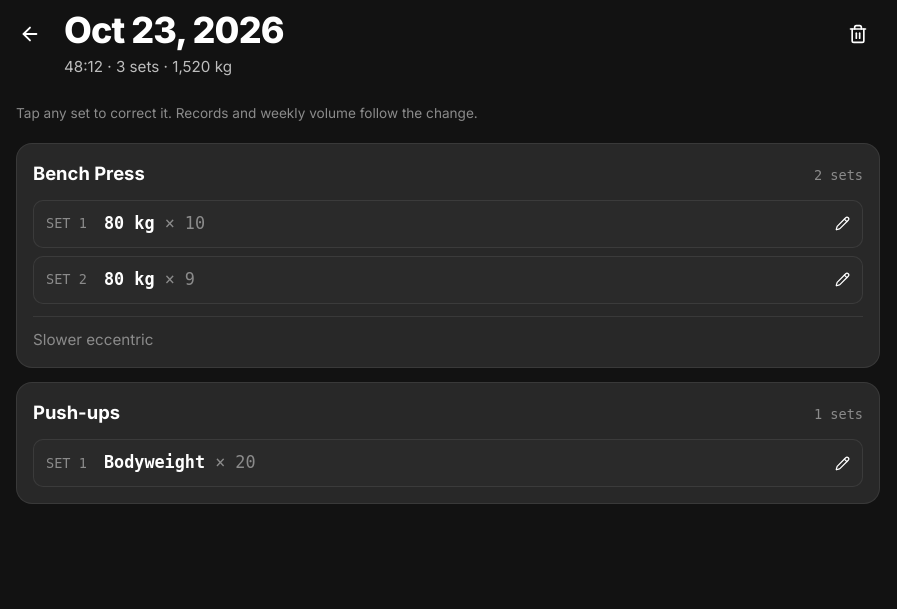
Test: MobileSessionDetail › rejects an invalid rep count without saving
Click the button with aria-label "Edit set 1 of Bench Press": (62, 223) [33,200,863,248]
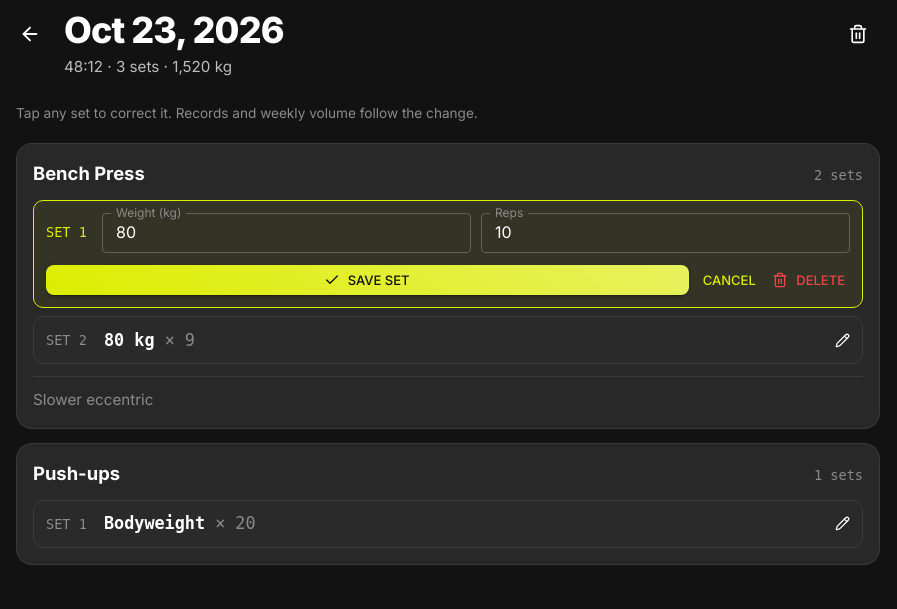
Replace the text in the field labelled "Reps" with "0": (666, 233) [481,213,850,253]
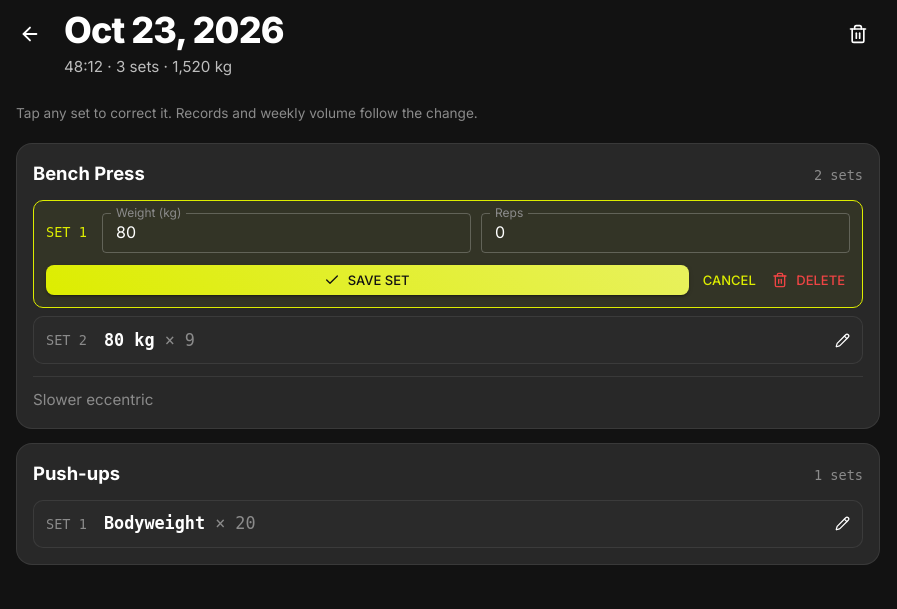
Click the button "Save set": (368, 280) [46,265,689,295]
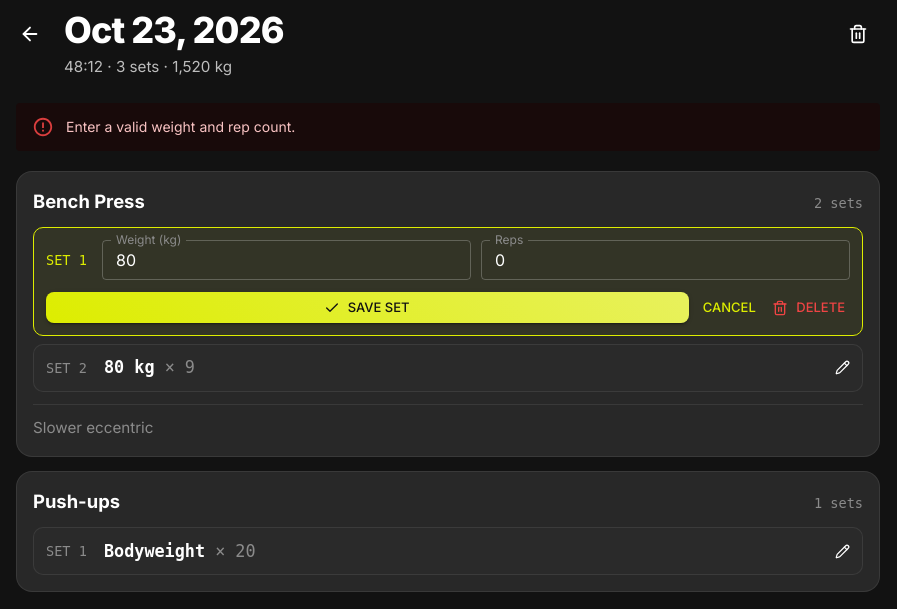
Expected: the text "Enter a valid weight and rep count." is shown, [66,118,295,135]
